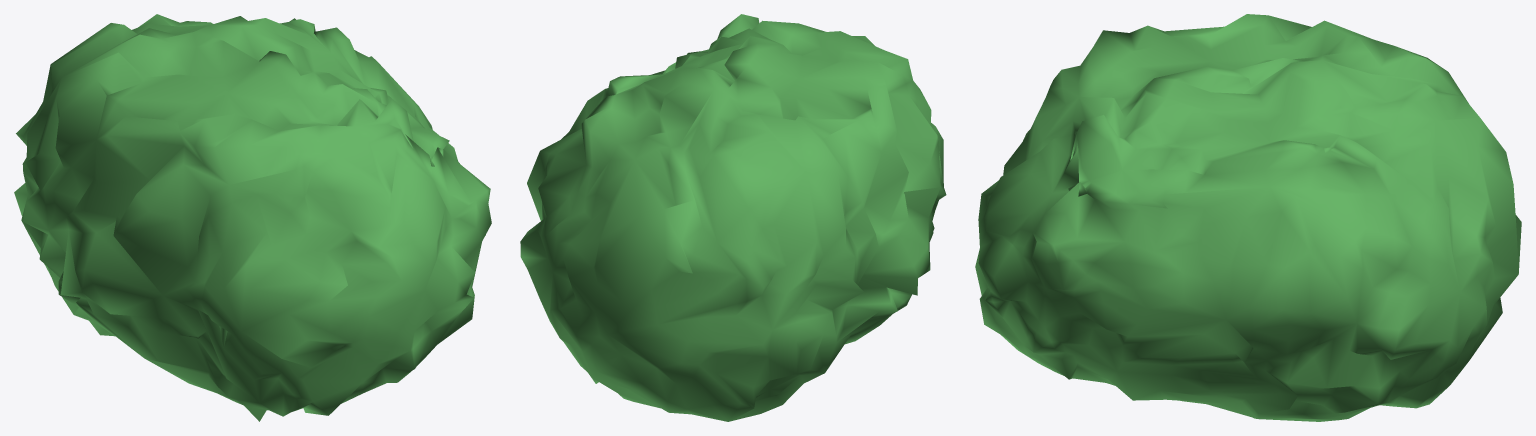
The model's file is arbustoMejor.glb.
3 views of the same model, side by side, from view 1: azimuth 30°, elevation 25°; view 2: azimuth 150°, elevation 25°; view 3: azimuth 270°, elevation 25° (orthographic). The views are drawn at different scales.
Visible parts, largest first — view 1: Icosphere; view 2: Icosphere; view 3: Icosphere.
Part boxes in pixels (x1=…): Icosphere: x1=14, y1=14, x2=491, y2=421; Icosphere: x1=520, y1=14, x2=946, y2=421; Icosphere: x1=975, y1=14, x2=1521, y2=421.
Size of the model in its own units: 0.1873 by 0.1524 by 0.2262.
